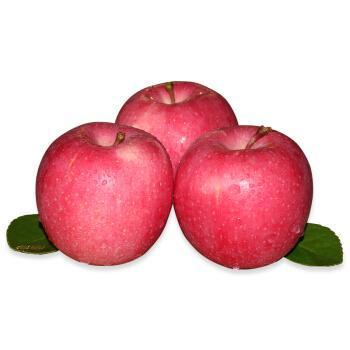apple: (34, 121, 174, 268), (173, 124, 313, 271), (112, 79, 237, 170)
